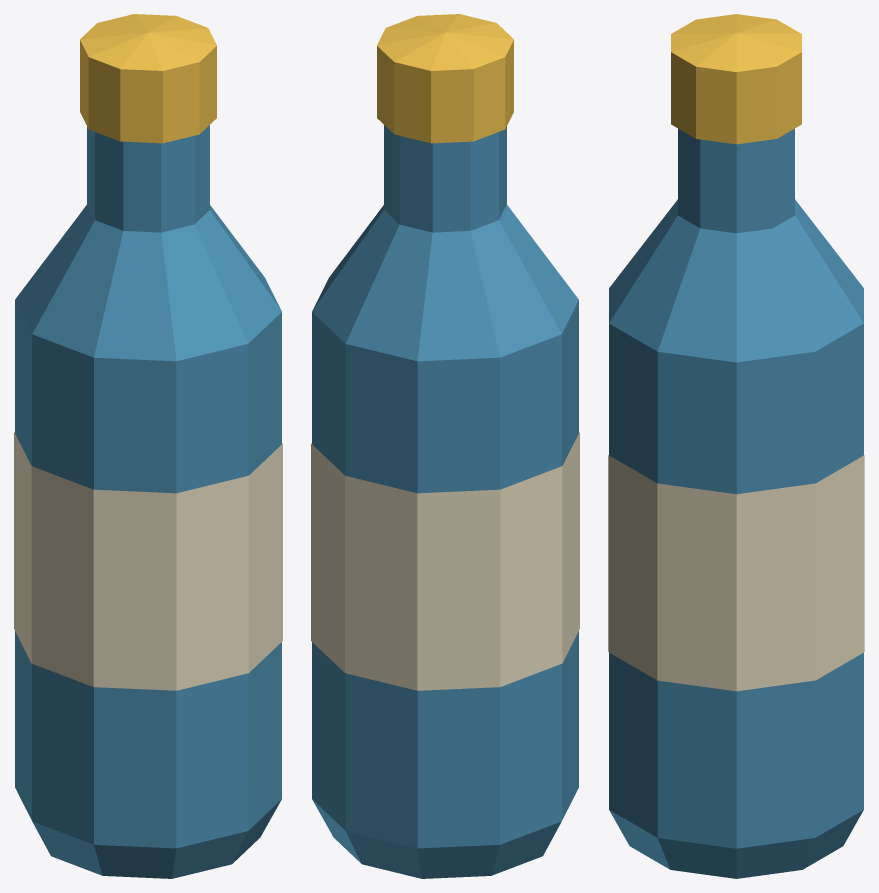
The model's file is bottle.glb.
3 views of the same model, side by side, from view 1: azimuth 30°, elevation 25°; view 2: azimuth 150°, elevation 25°; view 3: azimuth 270°, elevation 25° (orthographic).
Parts seen in each view (by area): view 1: bottle; view 2: bottle; view 3: bottle.
Part boxes in pixels (x1=…): bottle: x1=14, y1=14, x2=282, y2=878; bottle: x1=311, y1=14, x2=579, y2=878; bottle: x1=608, y1=14, x2=864, y2=878.
Size of the model in its own units: 0.0744 by 0.243 by 0.0708.
